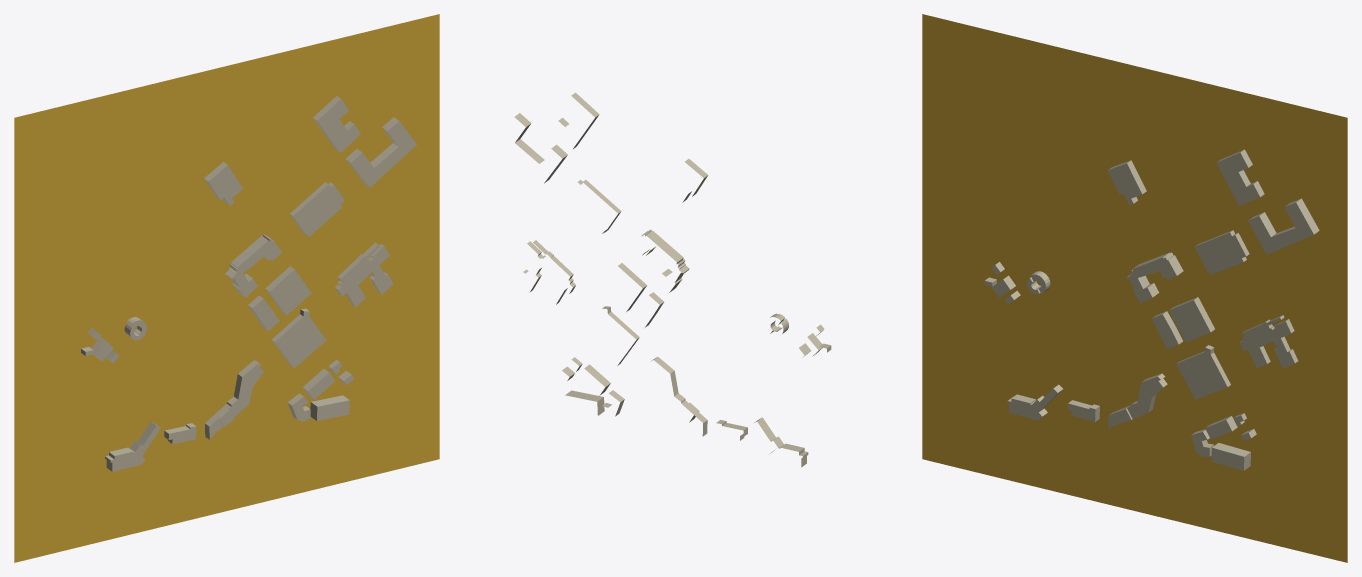
3 renders of one model, left to right at view 1: azimuth 30°, elevation 25°; view 2: azimuth 150°, elevation 25°; view 3: azimuth 330°, elevation 25°, orthographic.
Parts seen in each view (by area): view 1: ground.ply, building_6.ply, building_0.ply, building_7.ply, building_2.ply, building_3.ply, building_5.ply, building_20.ply, building_1.ply, building_13.ply, building_8.ply, building_16.ply (+2 smaller); view 2: building_3.ply, building_6.ply, building_20.ply, building_0.ply; view 3: ground.ply, building_6.ply, building_0.ply, building_7.ply, building_2.ply, building_5.ply, building_3.ply, building_1.ply, building_20.ply, building_8.ply, building_13.ply, building_16.ply (+1 smaller).
Part boxes in pixels (x1,y1,x2,y2): ground.ply: (14,14,439,562); building_6.ply: (346,117,416,187); building_0.ply: (335,242,393,307); building_7.ply: (271,308,326,368); building_2.ply: (290,182,344,236); building_3.ply: (225,234,282,297); building_5.ply: (313,96,360,152); building_20.ply: (205,360,263,439); building_1.ply: (265,266,311,315); building_13.ply: (105,421,160,471); building_8.ply: (204,162,243,205); building_16.ply: (310,395,349,420); building_3.ply: (641,229,689,292); building_6.ply: (514,113,567,183); building_20.ply: (652,357,707,436); building_0.ply: (523,240,575,304); ground.ply: (922,14,1347,562); building_6.ply: (1248,198,1319,254); building_0.ply: (1240,315,1298,368); building_7.ply: (1176,345,1230,399); building_2.ply: (1194,230,1249,275); building_5.ply: (1216,149,1264,205); building_3.ply: (1126,252,1183,303); building_1.ply: (1169,297,1214,342); building_20.ply: (1108,373,1167,428); building_8.ply: (1107,160,1146,205); building_13.ply: (1007,384,1062,420); building_16.ply: (1211,443,1250,470).
Bounding box in the file's own units: 768 × 768 × 21.
